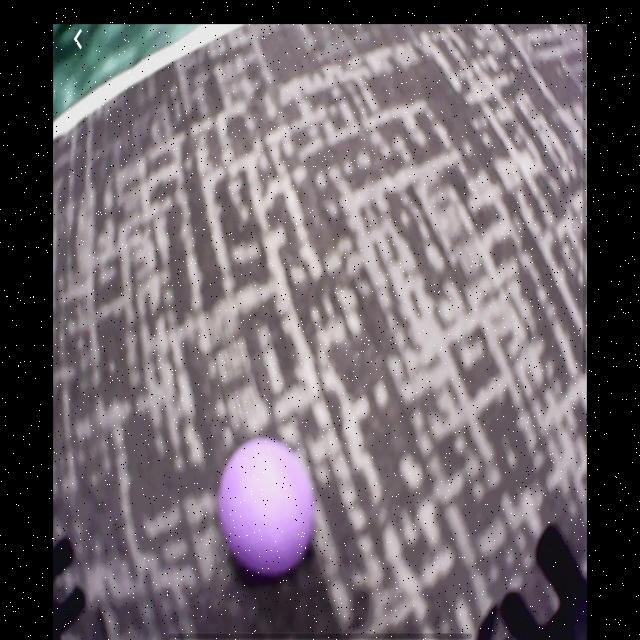ball: (218, 438, 315, 578)
